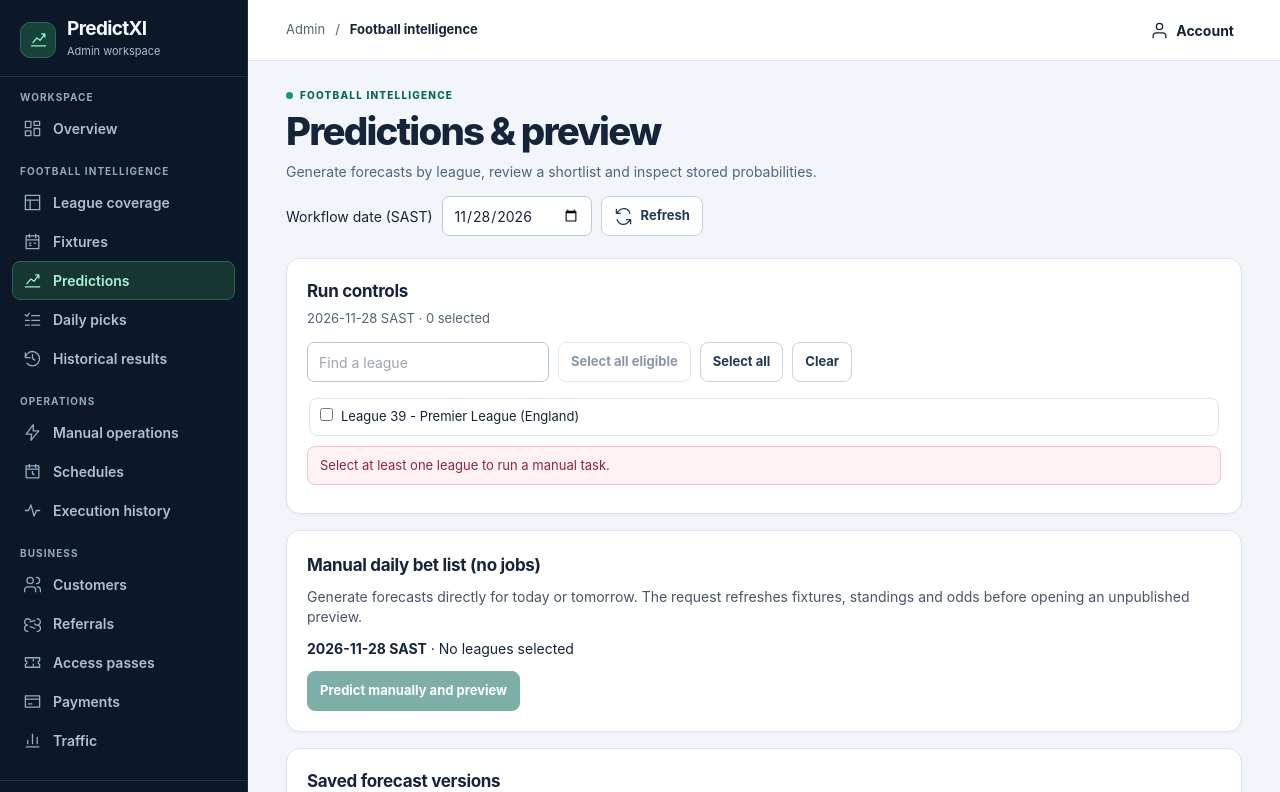
Test: manual daily publication without jobs › reports direct provider failures without queueing or offering publication
Click the checkbox labelled "League 39 - Premier League (England)".
click(326, 415)  # box left=320, top=408, right=333, bottom=421
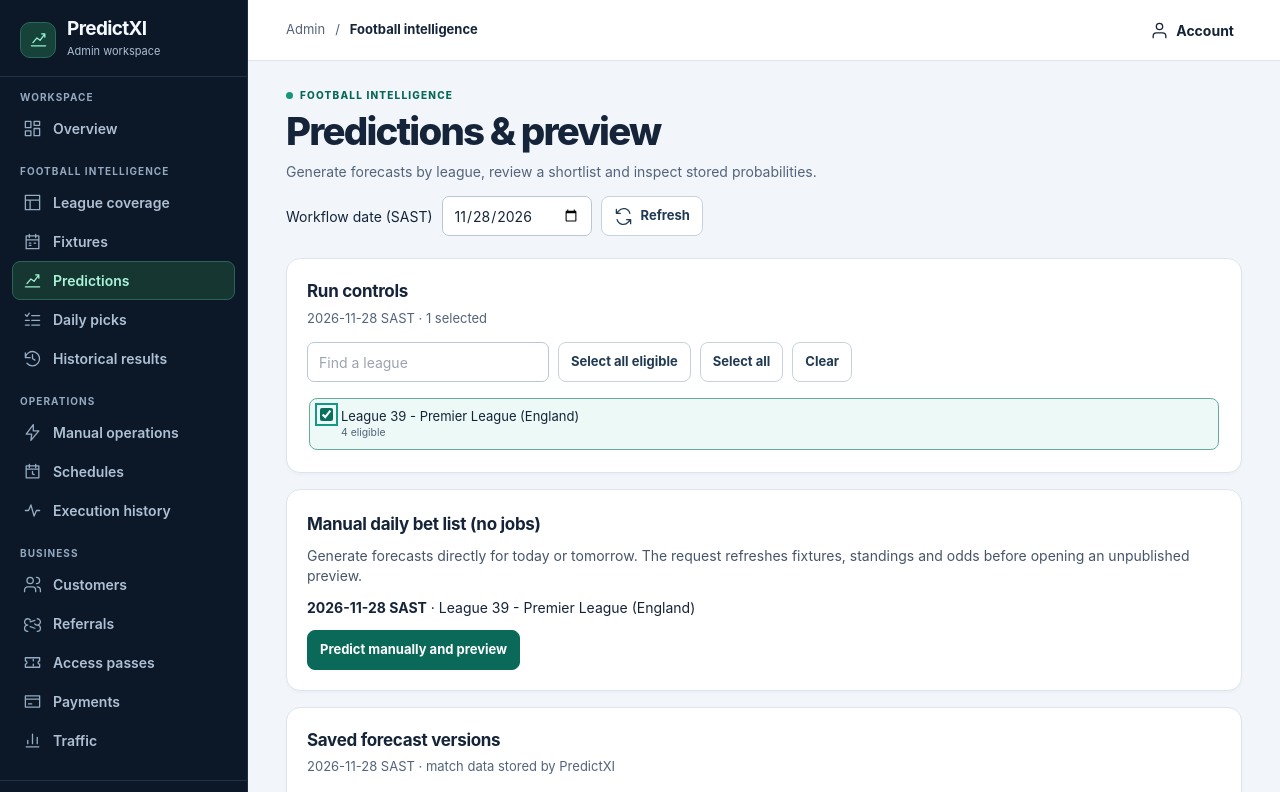
Click the button "Predict manually and preview".
click(414, 650)  # box left=307, top=630, right=520, bottom=670
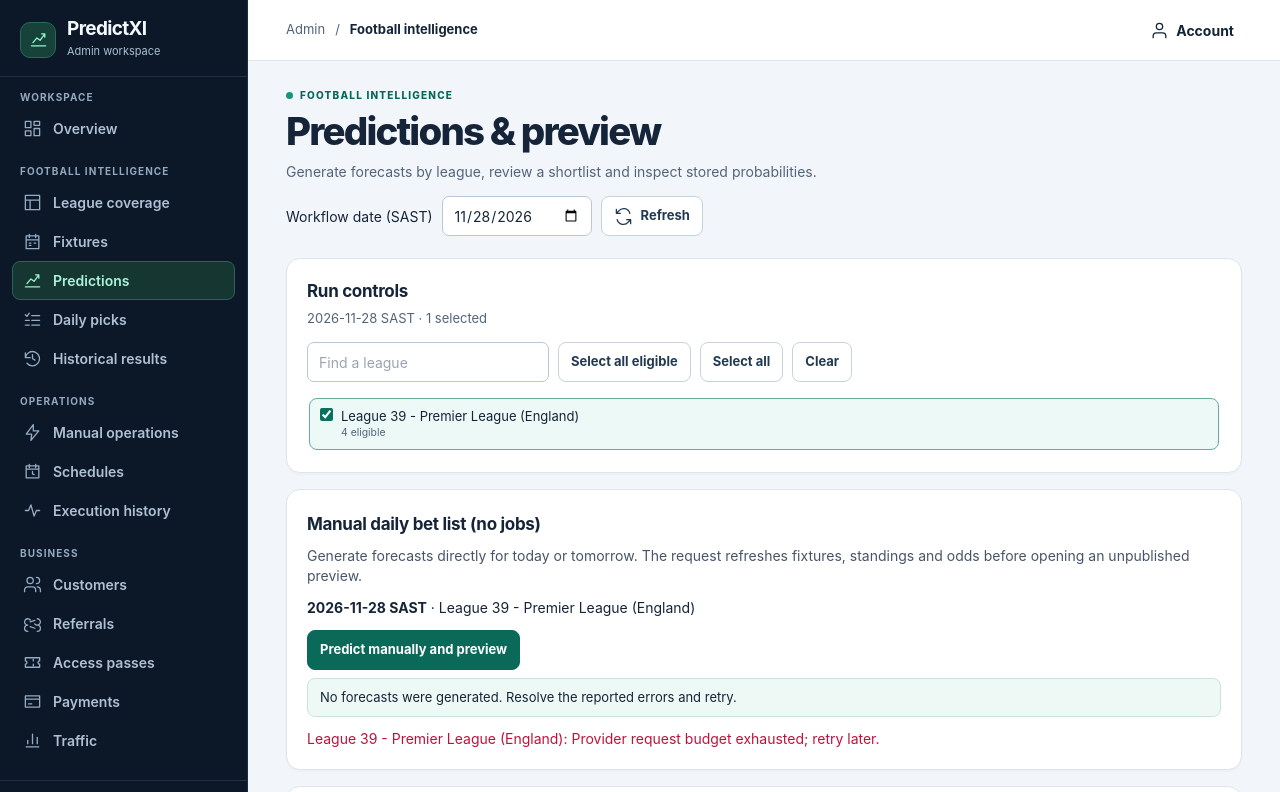
expect the 2nd message shows "Provider request budget exhausted": met, box left=307, top=730, right=880, bottom=747
